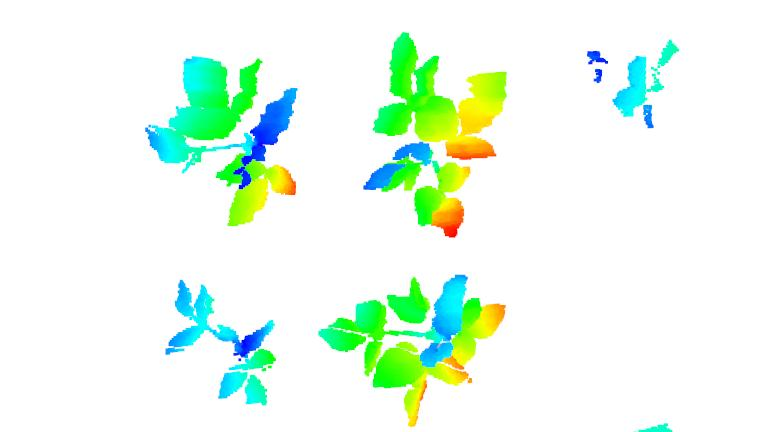mungbean: (316, 272, 510, 430), (361, 29, 507, 238), (142, 52, 304, 228), (158, 278, 283, 410)
